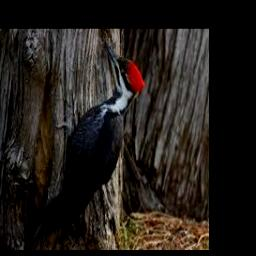Woodpecker: (29, 39, 146, 247)
